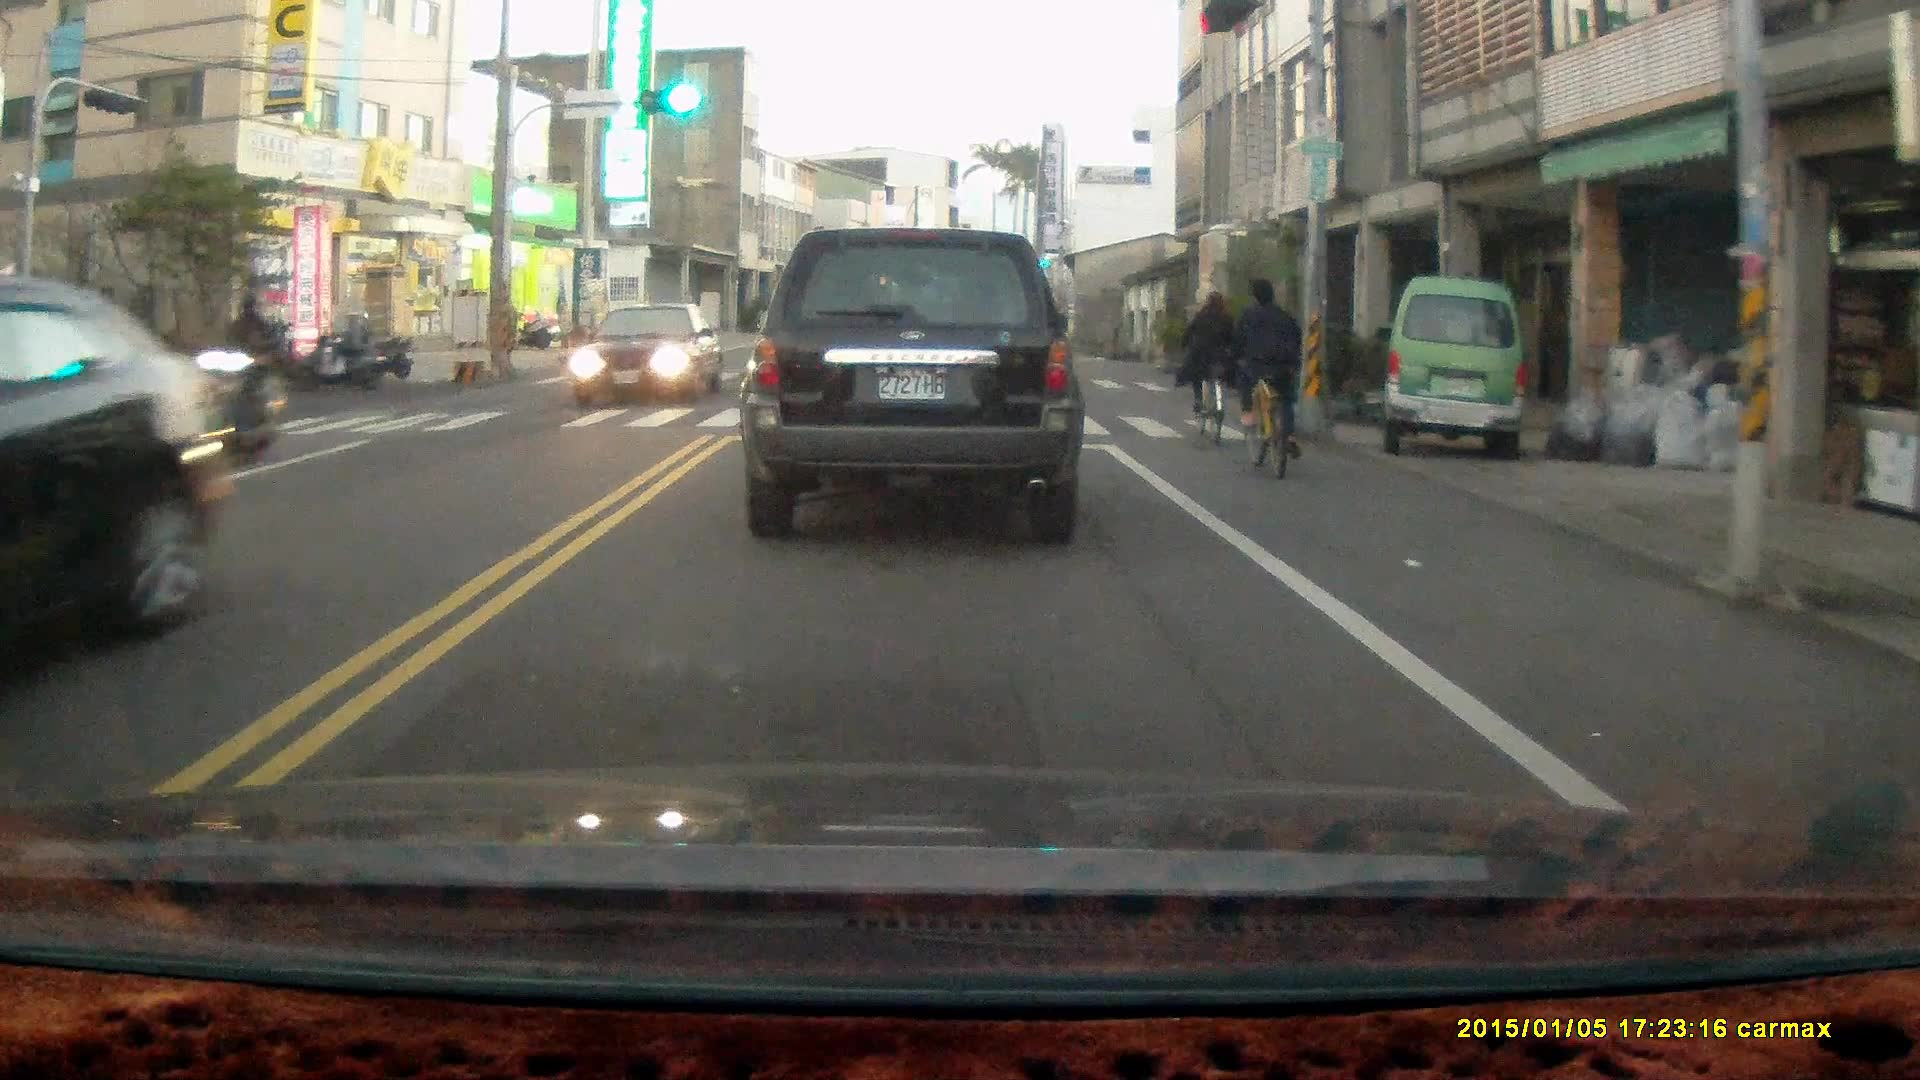rider: (185, 289, 287, 470), (1222, 274, 1305, 481), (1176, 290, 1236, 446), (296, 308, 382, 393)
vehicle: (750, 225, 1087, 536), (1, 274, 228, 698), (1380, 277, 1530, 468), (569, 302, 728, 411)
